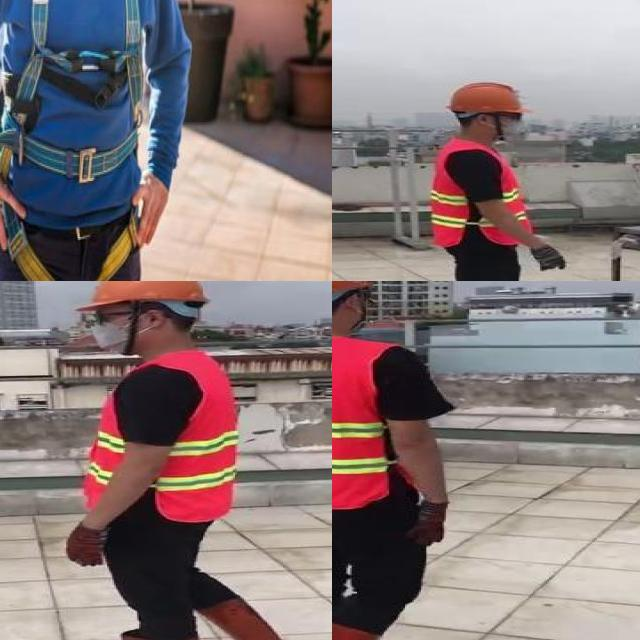Harness: (0, 0, 144, 185), (1, 203, 144, 281)
boots: (196, 601, 310, 640)
face_mask: (80, 304, 141, 355), (490, 110, 530, 138)
hand_glove: (405, 501, 448, 545), (68, 526, 109, 566), (526, 245, 566, 272)
head_helmet: (71, 281, 211, 314), (444, 80, 531, 116)
person: (35, 281, 332, 640), (332, 281, 459, 640), (398, 74, 572, 281)
vest: (87, 354, 240, 520), (332, 335, 398, 509), (432, 138, 536, 246)
